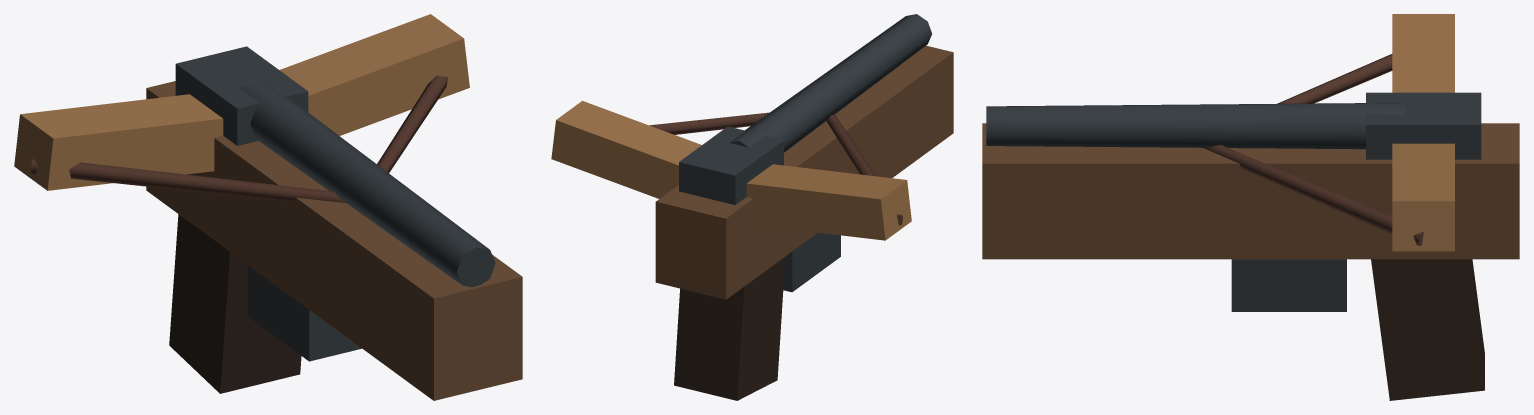
Rendered from light-crossbow.glb.
3 renders of one model, left to right at view 1: azimuth 30°, elevation 25°; view 2: azimuth 150°, elevation 25°; view 3: azimuth 270°, elevation 25°, orthographic. The views are drawn at different scales.
Parts seen in each view (by area): view 1: light-crossbow-stock, light-crossbow-barrel, light-crossbow-prod-left, light-crossbow-grip, light-crossbow-prod-right, light-crossbow-prod-center, light-crossbow-trigger-guard, light-crossbow-string, light-crossbow-string-return; view 2: light-crossbow-stock, light-crossbow-grip, light-crossbow-prod-left, light-crossbow-prod-right, light-crossbow-barrel, light-crossbow-prod-center, light-crossbow-trigger-guard, light-crossbow-string-return, light-crossbow-string; view 3: light-crossbow-stock, light-crossbow-barrel, light-crossbow-grip, light-crossbow-prod-right, light-crossbow-prod-center, light-crossbow-trigger-guard, light-crossbow-prod-left, light-crossbow-string-return, light-crossbow-string.
Boxes of the visible parts, x1,y1,x2,y2 form: light-crossbow-stock: [146, 81, 522, 400]; light-crossbow-barrel: [239, 79, 495, 287]; light-crossbow-prod-left: [14, 94, 223, 190]; light-crossbow-grip: [169, 214, 301, 393]; light-crossbow-prod-right: [279, 14, 469, 135]; light-crossbow-prod-center: [175, 46, 308, 145]; light-crossbow-trigger-guard: [247, 265, 361, 361]; light-crossbow-string: [31, 158, 345, 202]; light-crossbow-string-return: [377, 75, 448, 172]; light-crossbow-stock: [655, 45, 953, 299]; light-crossbow-grip: [674, 257, 785, 400]; light-crossbow-prod-left: [746, 164, 911, 240]; light-crossbow-prod-right: [551, 101, 701, 198]; light-crossbow-barrel: [729, 14, 931, 152]; light-crossbow-prod-center: [679, 126, 783, 204]; light-crossbow-trigger-guard: [783, 232, 840, 292]; light-crossbow-string-return: [649, 112, 769, 134]; light-crossbow-string: [826, 114, 902, 225]; light-crossbow-stock: [982, 123, 1519, 259]; light-crossbow-barrel: [986, 103, 1405, 149]; light-crossbow-grip: [1371, 259, 1484, 400]; light-crossbow-prod-right: [1392, 143, 1454, 251]; light-crossbow-prod-center: [1366, 92, 1481, 159]; light-crossbow-trigger-guard: [1231, 259, 1346, 311]; light-crossbow-prod-left: [1392, 14, 1454, 92]; light-crossbow-string-return: [1204, 145, 1423, 245]; light-crossbow-string: [1277, 54, 1392, 103].
Size of the model in its own units: 0.4812 by 0.3211 by 0.56.
